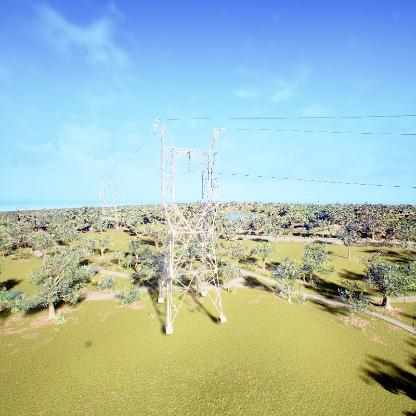tower: (145, 117, 237, 339)
